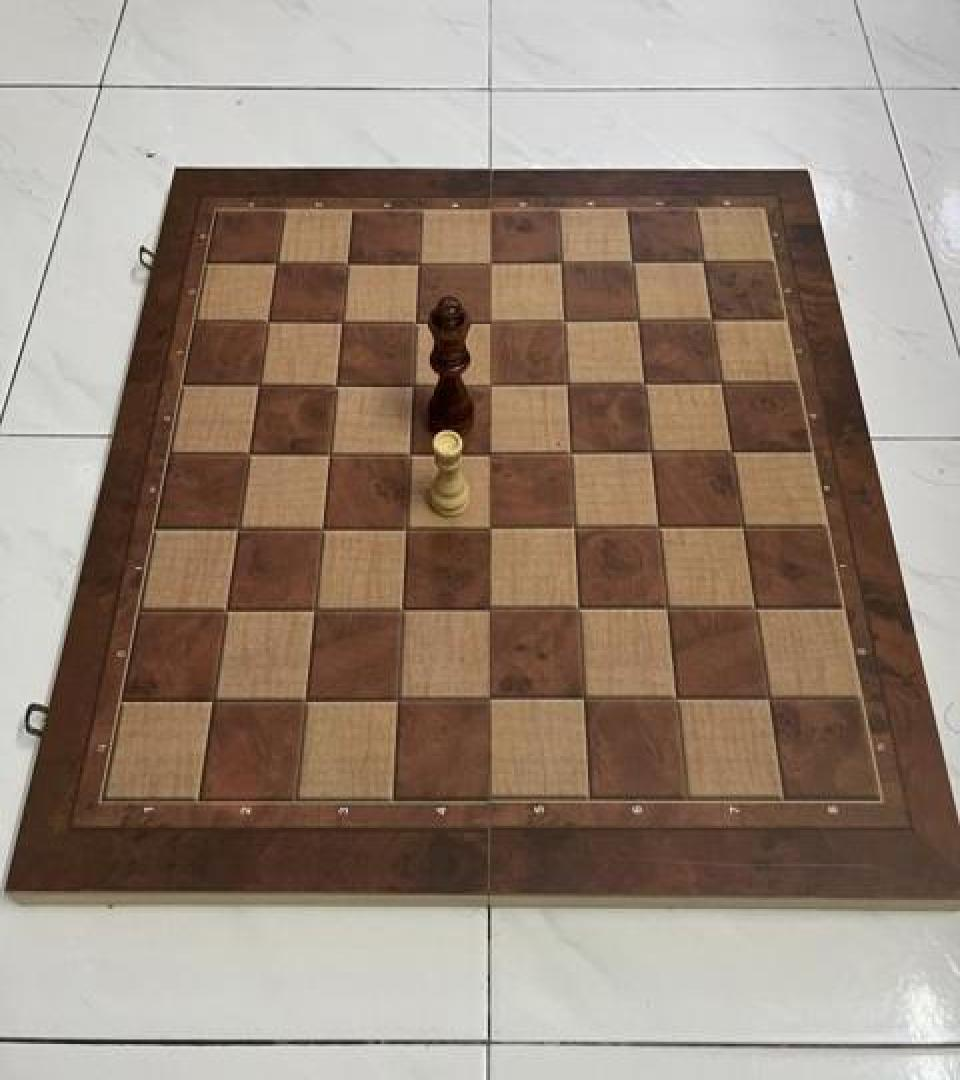xcorner: (689, 246, 721, 282), (618, 246, 650, 282), (546, 246, 578, 282), (475, 248, 507, 284), (403, 248, 435, 284), (331, 248, 363, 284), (260, 248, 292, 284), (697, 305, 729, 341), (623, 305, 655, 341), (549, 305, 581, 341), (475, 306, 507, 342), (400, 306, 432, 342), (326, 306, 358, 342), (251, 306, 283, 342), (706, 368, 738, 404), (629, 368, 661, 404), (552, 368, 584, 404), (475, 369, 507, 405), (397, 369, 429, 405), (320, 369, 352, 405), (242, 370, 274, 406), (716, 436, 748, 472), (636, 436, 668, 472), (555, 436, 587, 472), (475, 438, 507, 474), (394, 438, 426, 474), (313, 438, 345, 474), (232, 439, 264, 475), (726, 511, 758, 547), (643, 511, 675, 547), (559, 511, 591, 547), (474, 512, 506, 548), (390, 512, 422, 548), (306, 513, 338, 549), (222, 513, 254, 549), (738, 592, 770, 628), (650, 592, 682, 628), (562, 593, 594, 629), (474, 593, 506, 629), (386, 594, 418, 630), (298, 594, 330, 630), (210, 595, 242, 631), (751, 680, 783, 716), (659, 680, 691, 716), (567, 682, 599, 718), (474, 683, 506, 719), (382, 683, 414, 719), (290, 684, 322, 720), (197, 684, 229, 720)
